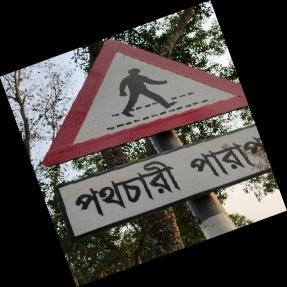Pedestrian-crossing: (45, 37, 274, 237)
